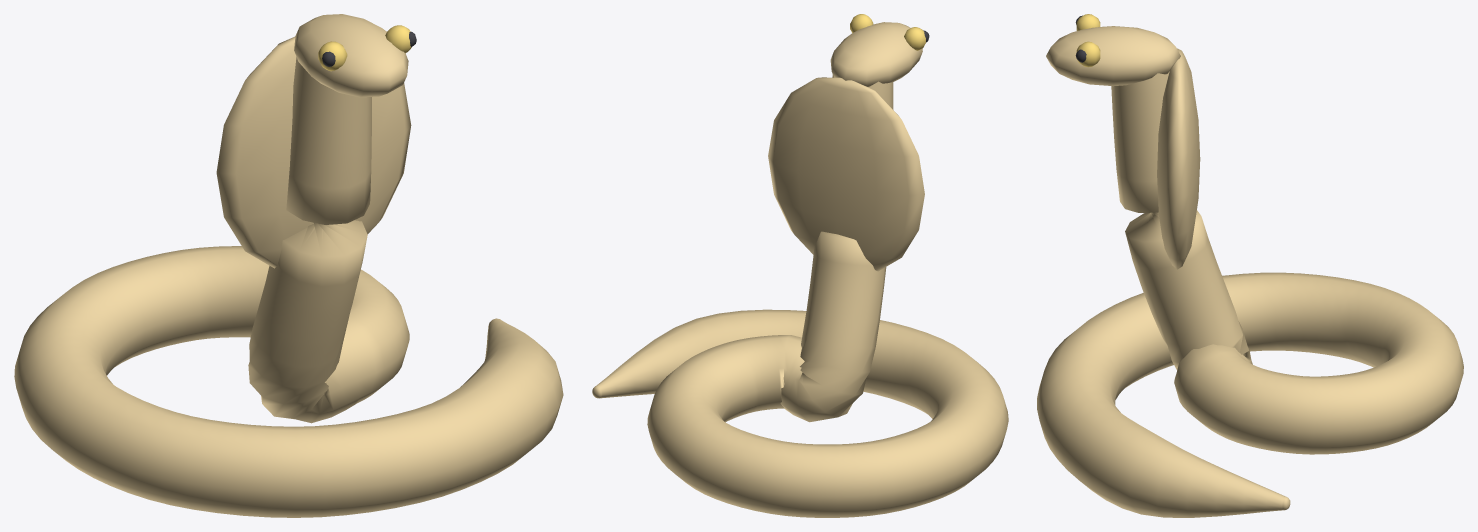
Rendered from reptiles-amphibians-and-minibeasts-king-cobra-hooded-77955001__22436.glb.
3 renders of one model, left to right at view 1: azimuth 30°, elevation 25°; view 2: azimuth 150°, elevation 25°; view 3: azimuth 270°, elevation 25°, orthographic. The views are drawn at different scales.
Parts seen in each view (by area): view 1: king-cobra-hooded; view 2: king-cobra-hooded; view 3: king-cobra-hooded.
Boxes of the visible parts, left/top/right/bottom form: king-cobra-hooded: left=14, top=14, right=563, bottom=517; king-cobra-hooded: left=592, top=14, right=1008, bottom=517; king-cobra-hooded: left=1037, top=14, right=1463, bottom=517.
Size of the model in its own units: 0.8677 by 0.8387 by 0.8.
